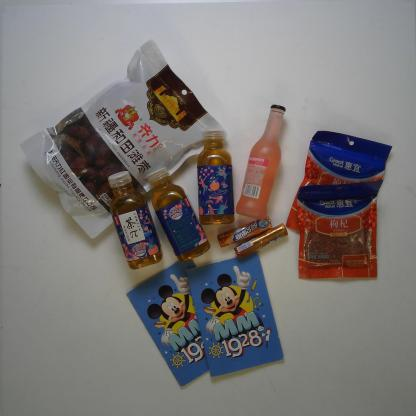Alcohol: (236, 104, 286, 218)
Candy: (235, 223, 288, 258), (218, 218, 274, 246)
Dried Food: (20, 40, 226, 240)
Dried Fruit: (284, 131, 393, 241), (297, 180, 379, 280)
Drink: (147, 167, 210, 262), (108, 169, 162, 270), (196, 130, 235, 226)
Stationery: (126, 257, 244, 388), (184, 250, 284, 378)
